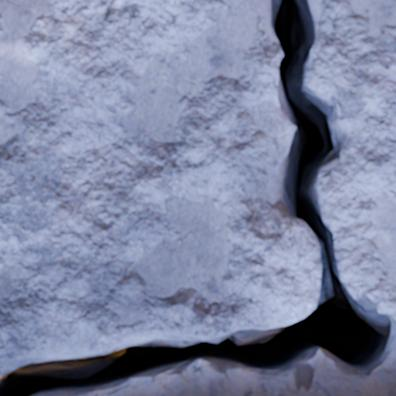broken_brick: (0, 0, 319, 359), (308, 0, 395, 321), (0, 361, 28, 373)
crack: (0, 0, 394, 395)
